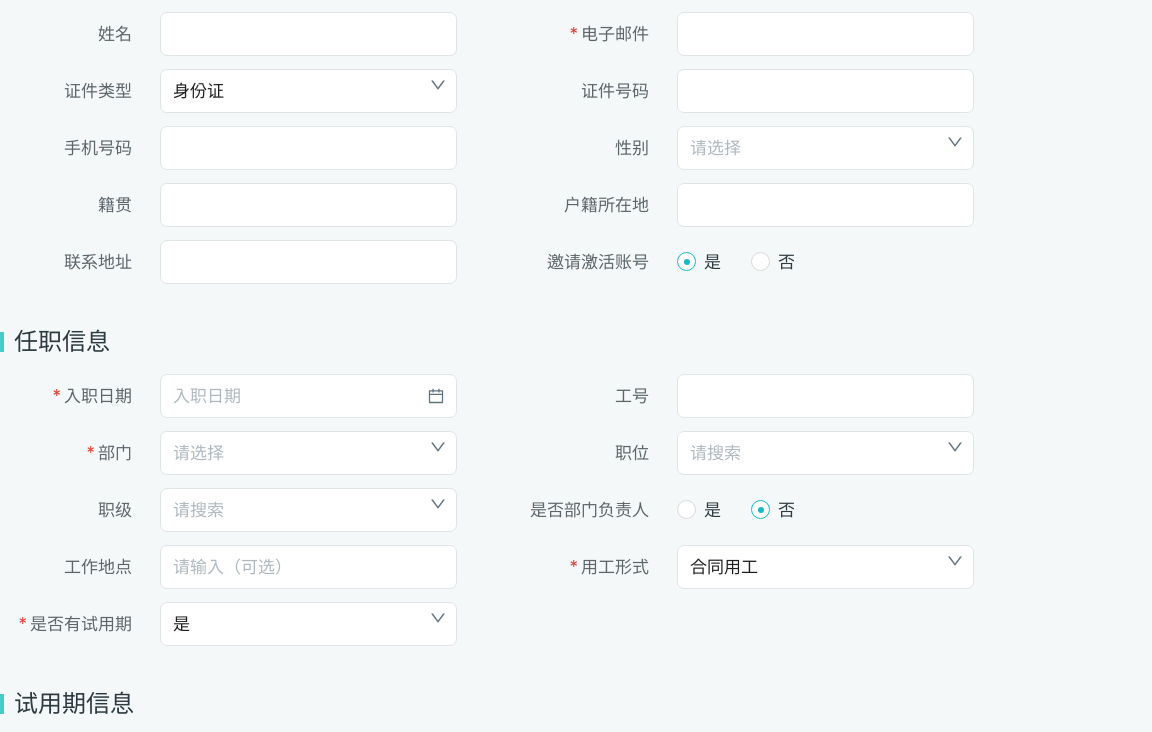
it: EmployeeForm › keeps globally selectable positions available when the department changes
The width and height of the screenshot is (1152, 732).
Press the mouse on the 1st dropdown at (816, 453), box [690,432,943,474]
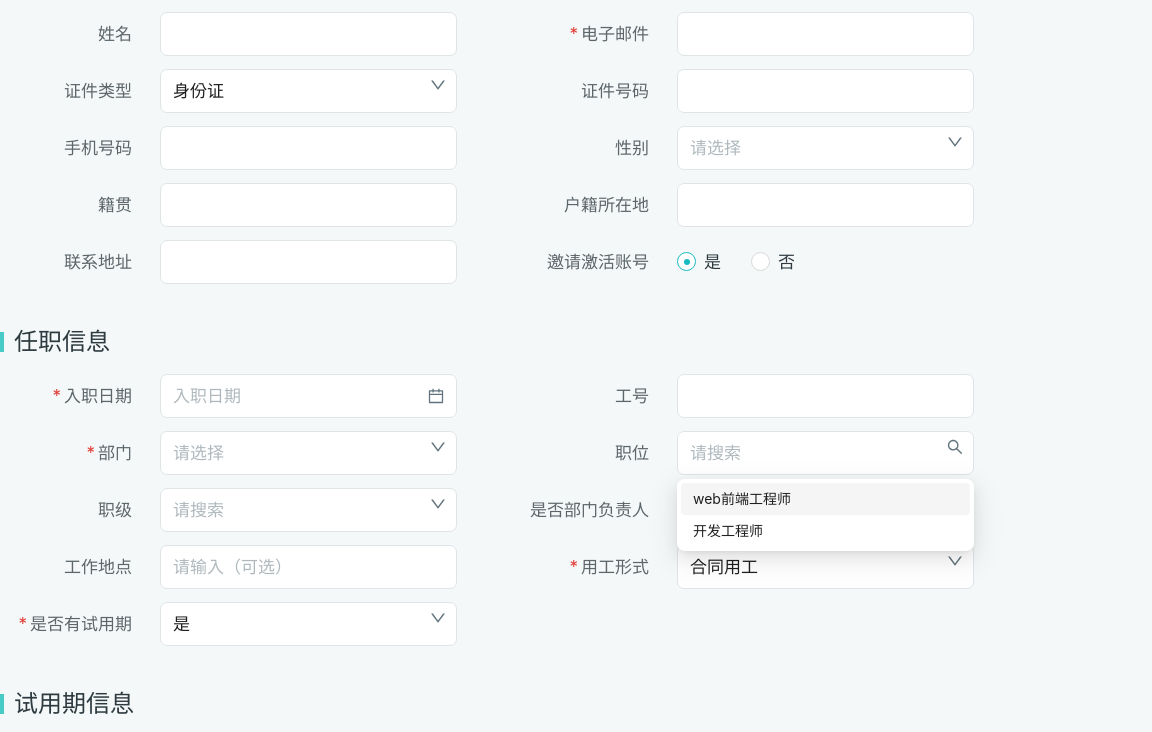
Expected: the text "web前端工程师" is shown, [693,490,791,507]
Expected: the text "开发工程师" is shown, [693,522,763,539]
